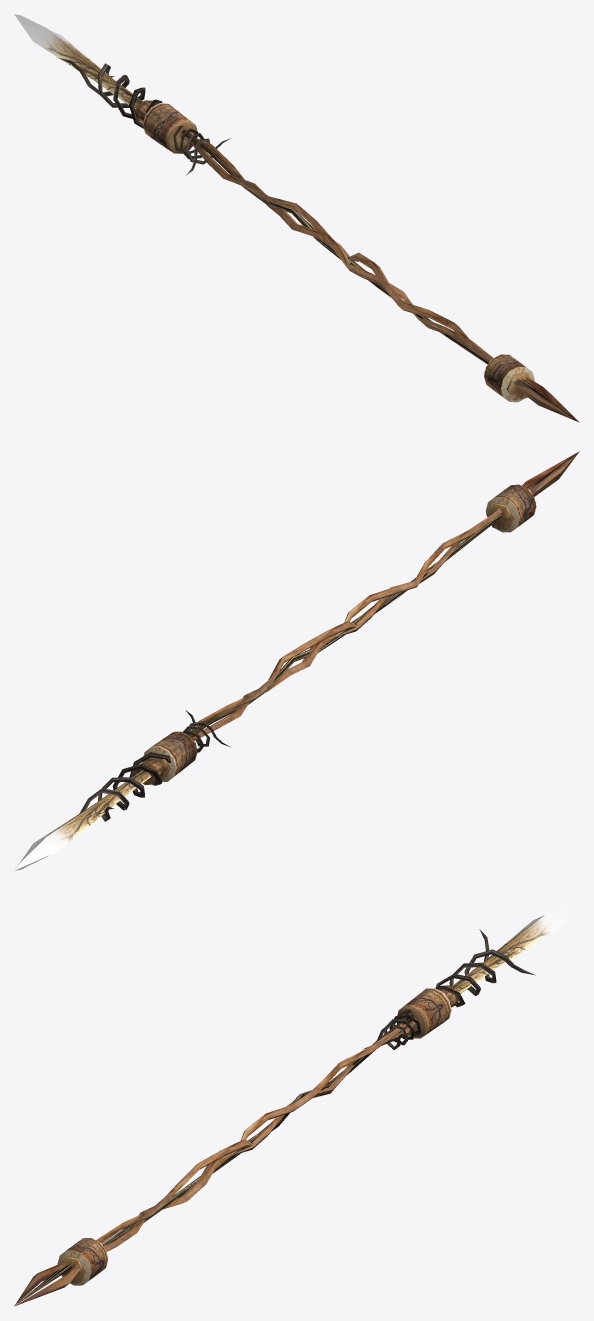
Rendered from spear_toneriko_toneriko.glb.
3 renders of one model, top to bottom at view 1: azimuth 30°, elevation 25°; view 2: azimuth 150°, elevation 25°; view 3: azimuth 330°, elevation 25°, orthographic.
Size of the model in its own units: 0.1964 by 0.1154 by 3.34.
Materials: 1 (1 with a texture image).
